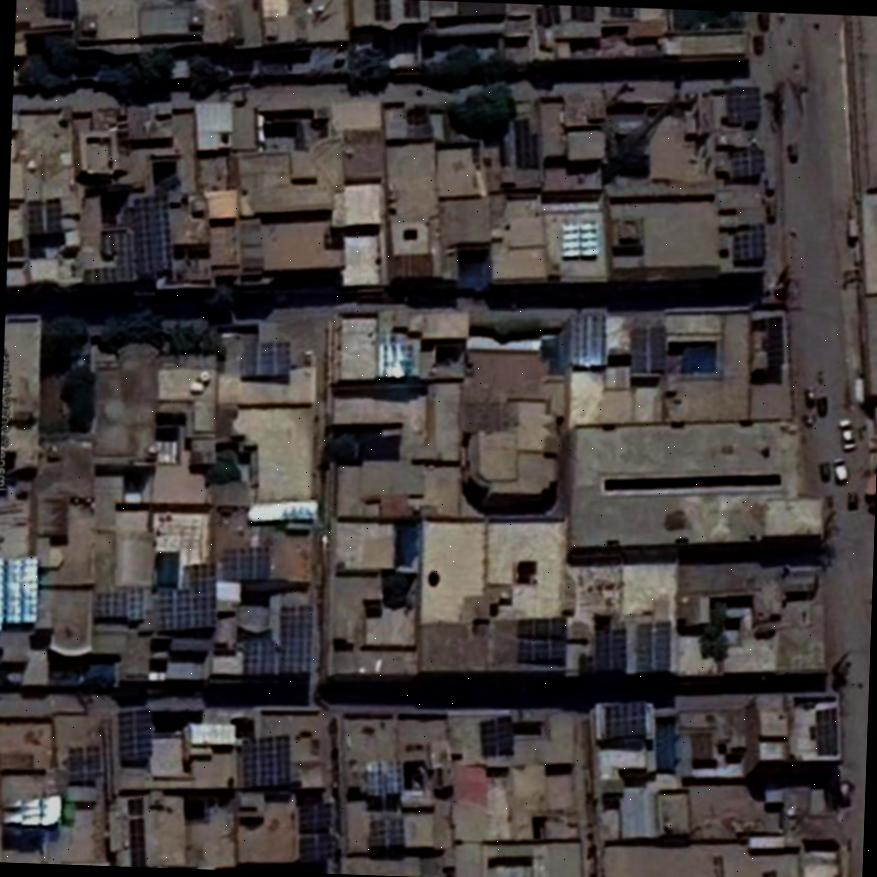Solarpanel: (156, 561, 217, 629), (128, 195, 169, 279), (0, 556, 37, 633), (84, 232, 136, 283), (243, 734, 290, 785), (279, 604, 311, 672), (518, 616, 566, 661), (571, 313, 607, 367), (631, 325, 666, 373), (637, 621, 669, 673), (224, 546, 269, 582), (118, 710, 150, 760), (96, 588, 144, 621), (605, 697, 644, 735), (244, 342, 287, 375), (595, 630, 626, 673), (365, 759, 402, 795), (128, 798, 147, 867), (514, 117, 539, 168), (562, 223, 597, 258), (733, 223, 766, 260), (242, 639, 274, 677), (27, 196, 58, 235), (728, 87, 759, 122), (380, 343, 412, 376), (482, 717, 513, 749), (370, 815, 402, 846), (817, 707, 838, 753), (732, 146, 765, 175), (300, 834, 331, 863), (301, 803, 330, 829), (45, 0, 77, 17), (374, 0, 389, 19), (404, 0, 420, 16)
